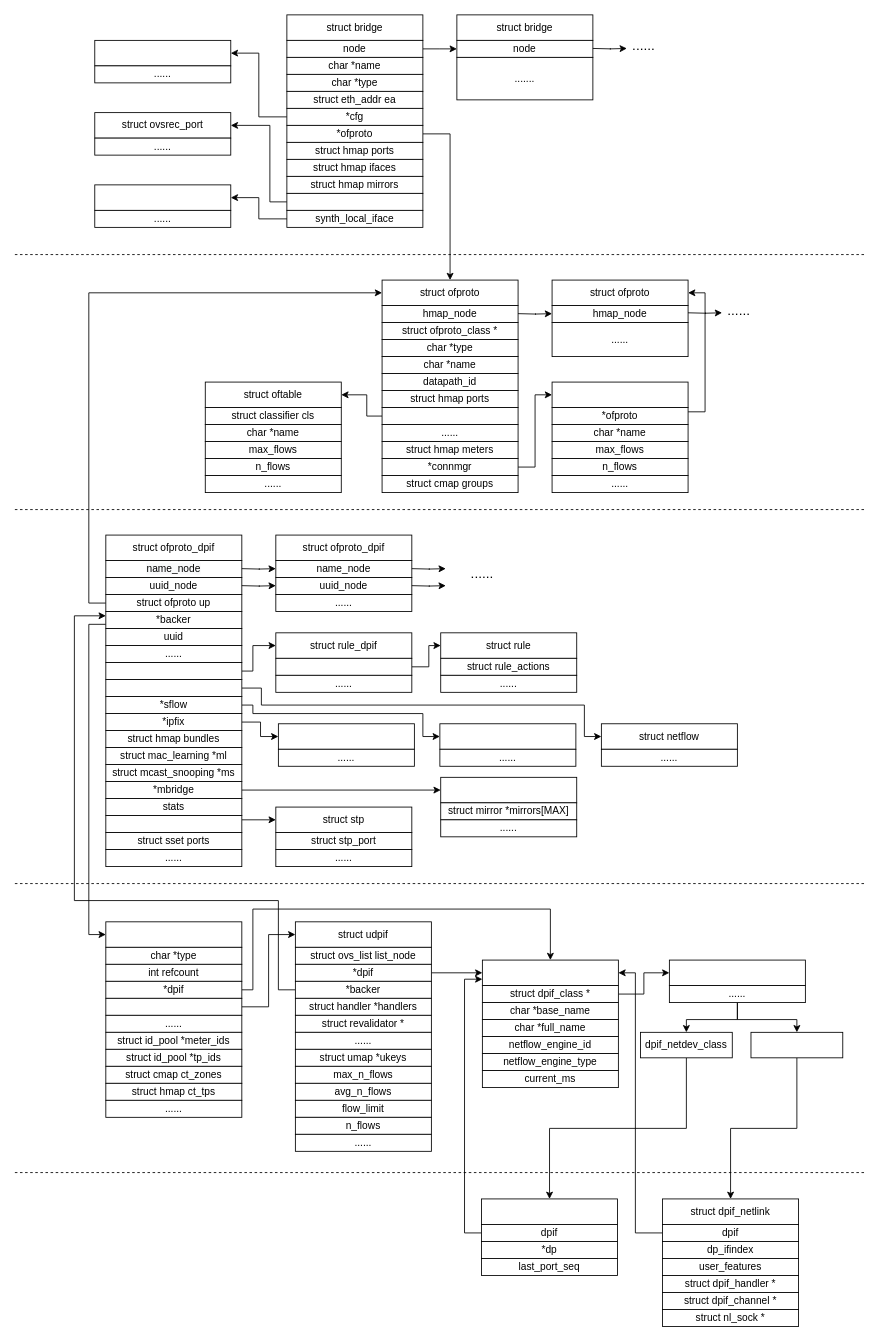
The diagram is 881 pixels wide and 1341 high, and some of its shapes have lost their labels. The centre of each missing label's shape, as x and y in pixels:
*miss_rule: the point at 173,671
*netflow: the point at 173,688
*tables: the point at 449,416
*udpif: the point at 173,1006
dpif_netlink_class: the point at 796,1044
struct connmgr: the point at 619,394
struct dpif: the point at 550,972
struct dpif_backer: the point at 173,934
struct dpif_class: the point at 737,972
struct dpif_ipfix: the point at 346,736
struct dpif_netdev: the point at 549,1211
struct dpif_sflow: the point at 507,736
struct mbridge: the point at 508,789
struct ovsrec_bridge: the point at 162,53
struct ovsrec_interface: the point at 162,197
struct rule up: the point at 343,666
struct stp *stp: the point at 173,824
synth_local_port: the point at 354,201
